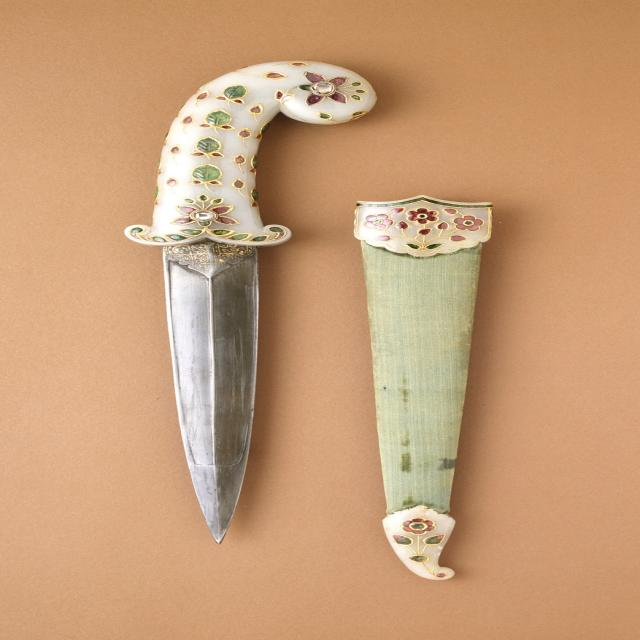knife: (114, 22, 368, 559)
